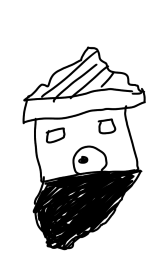door: (69, 141, 112, 178)
open_window: (42, 124, 72, 146), (96, 115, 120, 136)
roof: (15, 36, 152, 121)
shadow: (28, 163, 150, 252)
wall: (26, 102, 140, 181)
